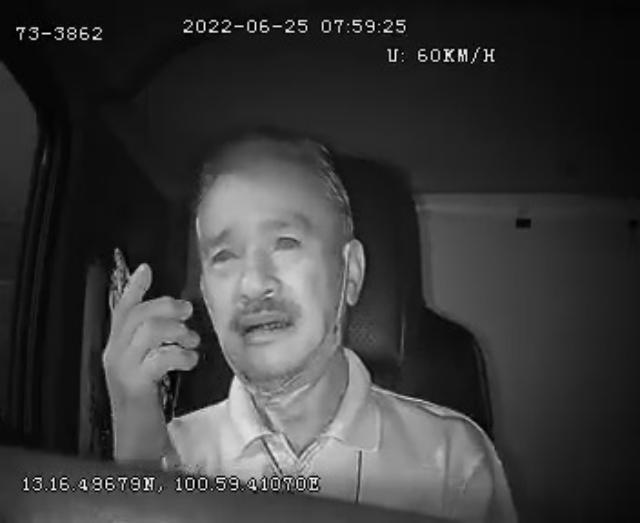PhoneUse: (105, 240, 182, 426)
SafeDriving: (202, 232, 248, 275), (267, 220, 308, 259)
